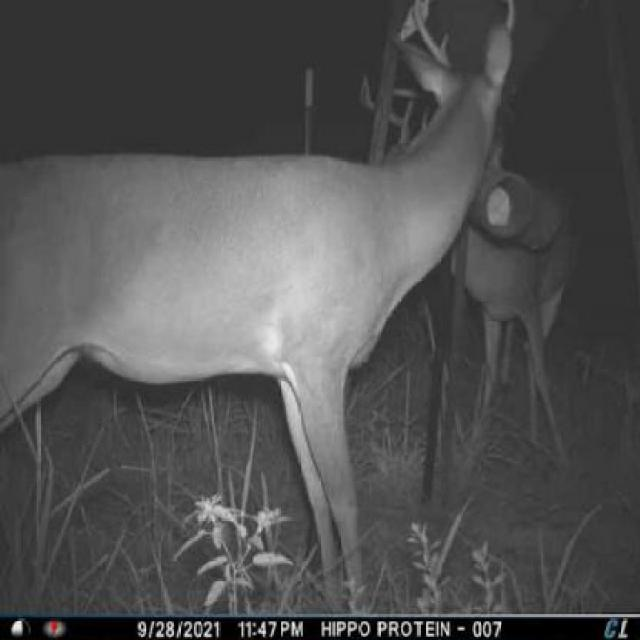Deer: (0, 0, 522, 606), (336, 65, 593, 484)
